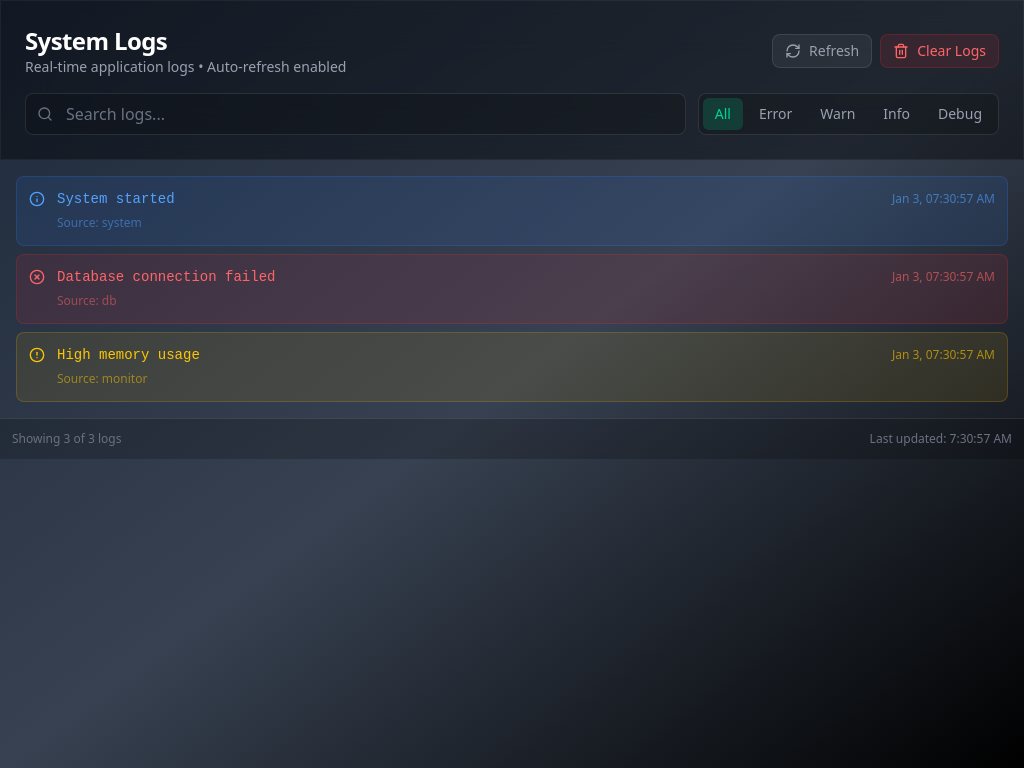
it: Logs Page › filters logs by level
The width and height of the screenshot is (1024, 768).
Expected: the text "System started" is shown, [57,191,175,207]
Note: Click "error" filter
Click the button "error".
click(776, 114)  # box [747,98,804,130]
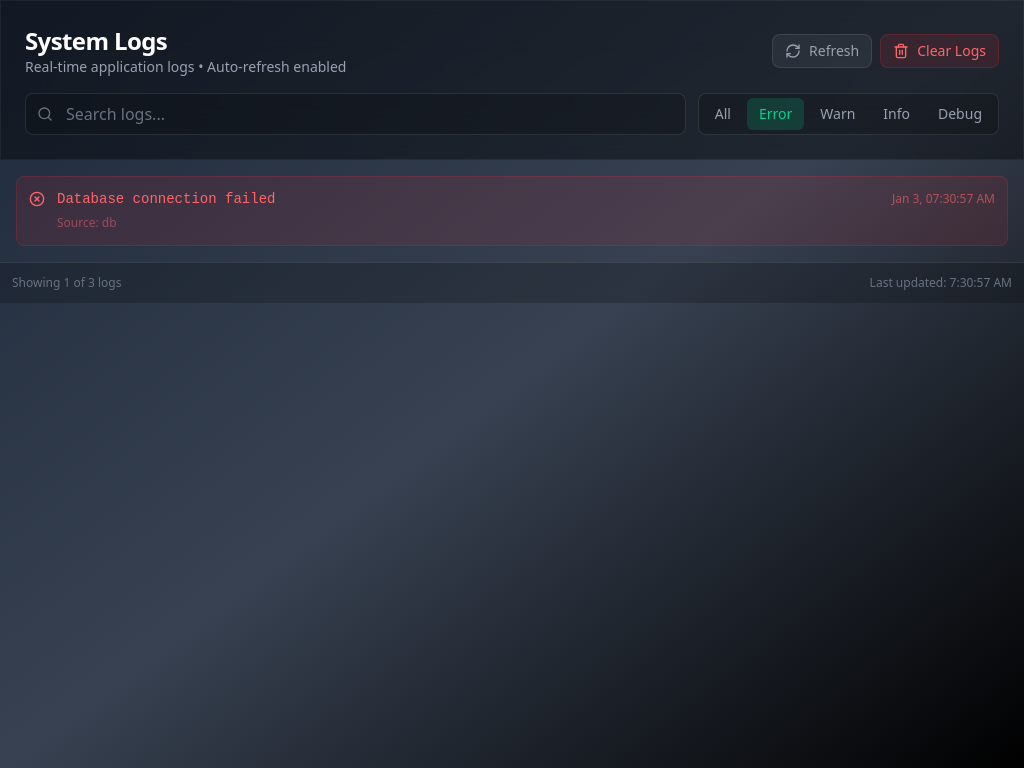
Expected: the text "Database connection failed" is shown, [57,191,275,207]
Now the text "System started" is gone
Now the text "High memory usage" is gone
